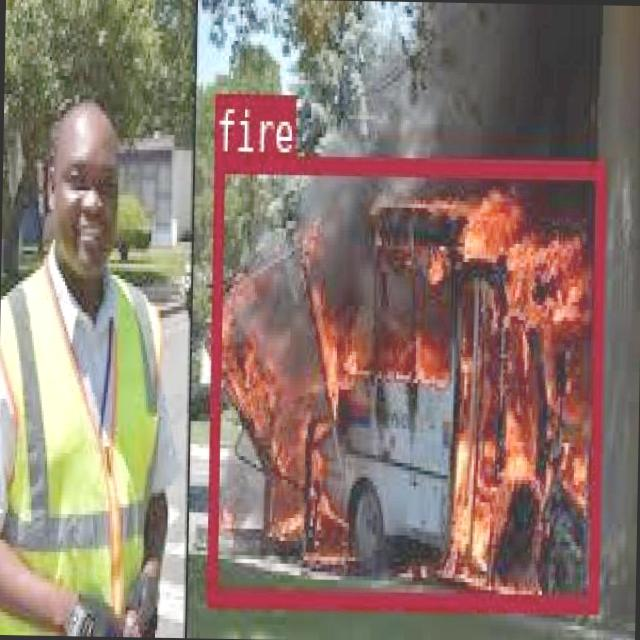fire: (206, 154, 604, 609)
